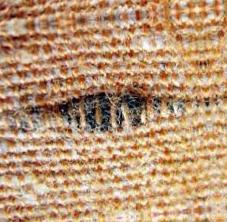slub: (2, 88, 227, 135)
